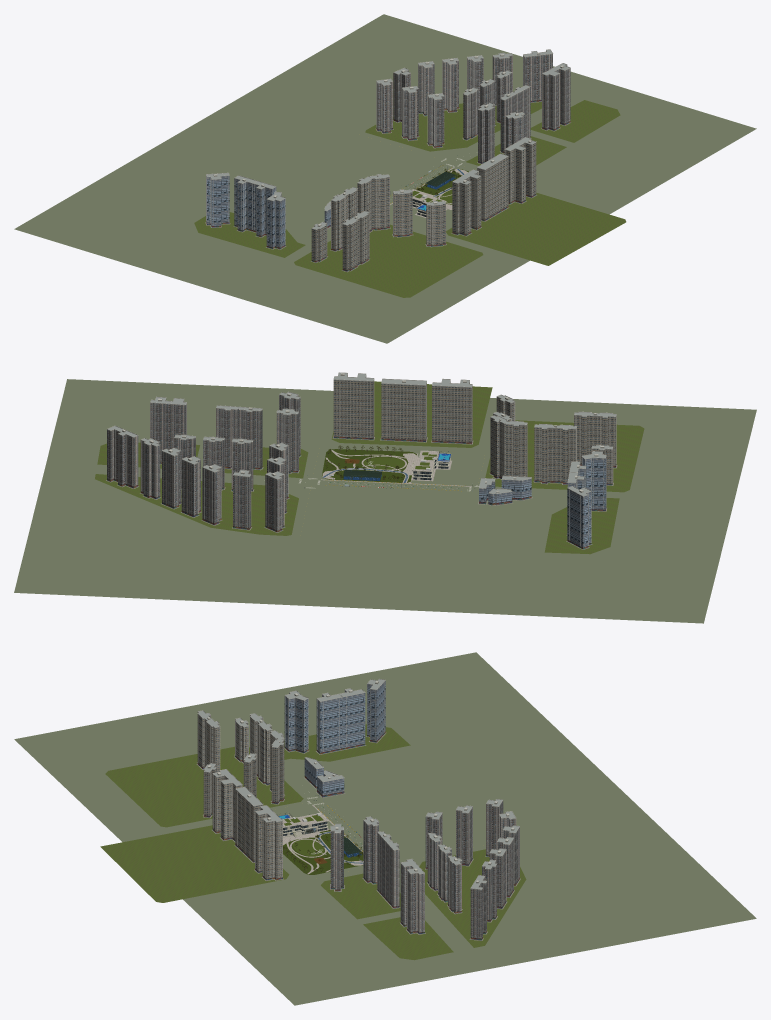
Rendered from surroundings.glb.
3 views of the same model, one above another, from view 1: azimuth 30°, elevation 25°; view 2: azimuth 150°, elevation 25°; view 3: azimuth 270°, elevation 25° (orthographic). The views are drawn at different scales.
Parts seen in each view (by area): view 1: surroundings; view 2: surroundings; view 3: surroundings.
Boxes of the visible parts, bbox=[...] form: surroundings: bbox=[14, 14, 756, 343]; surroundings: bbox=[14, 372, 756, 623]; surroundings: bbox=[14, 652, 756, 1005].
Size of the model in its own units: 1272 by 103 by 1130.
78 materials, 30 textured.
